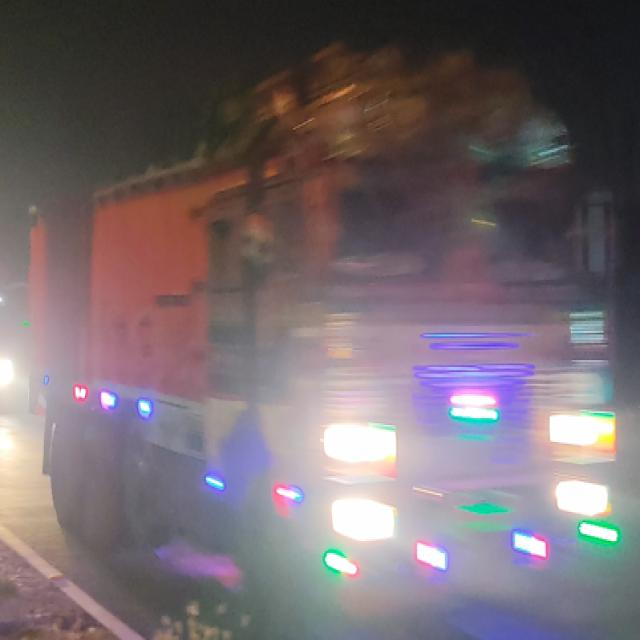truck: (25, 36, 620, 633)
